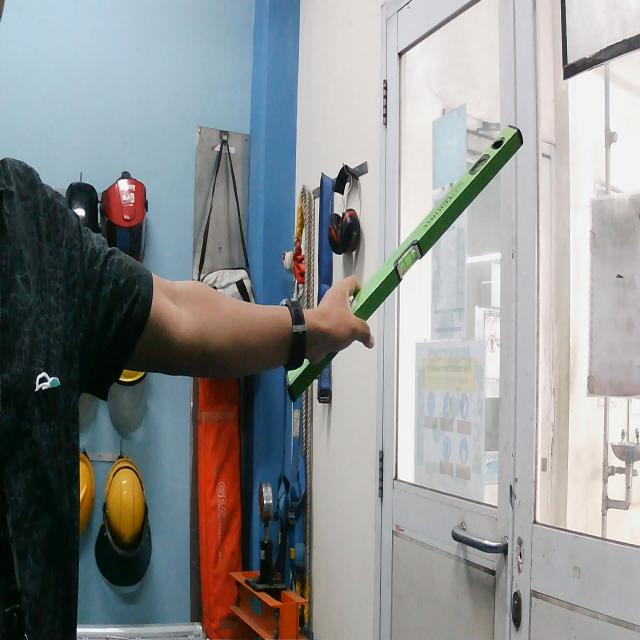water_pass: (280, 116, 527, 409)
